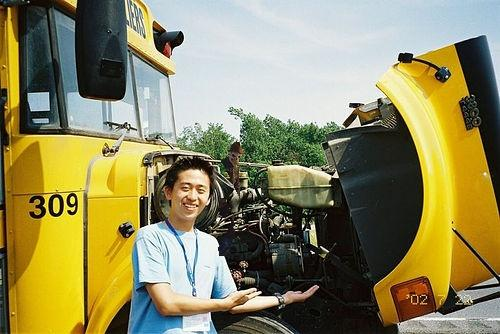tampered: (219, 142, 243, 256)
